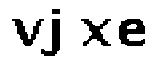e: (117, 17, 148, 49)
j: (43, 9, 66, 57)
v: (10, 14, 44, 48)
x: (79, 15, 113, 49)
